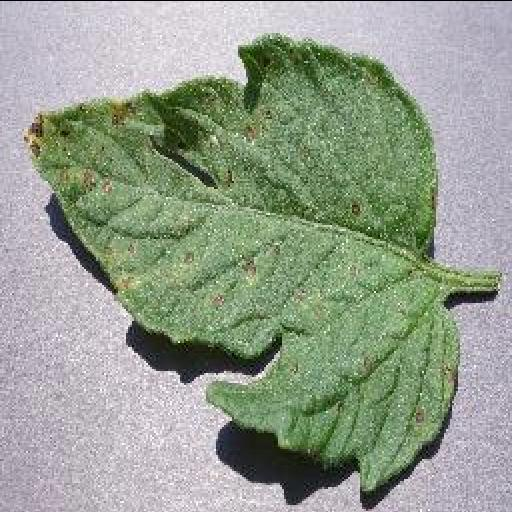disease_tomato: (24, 33, 458, 495)
